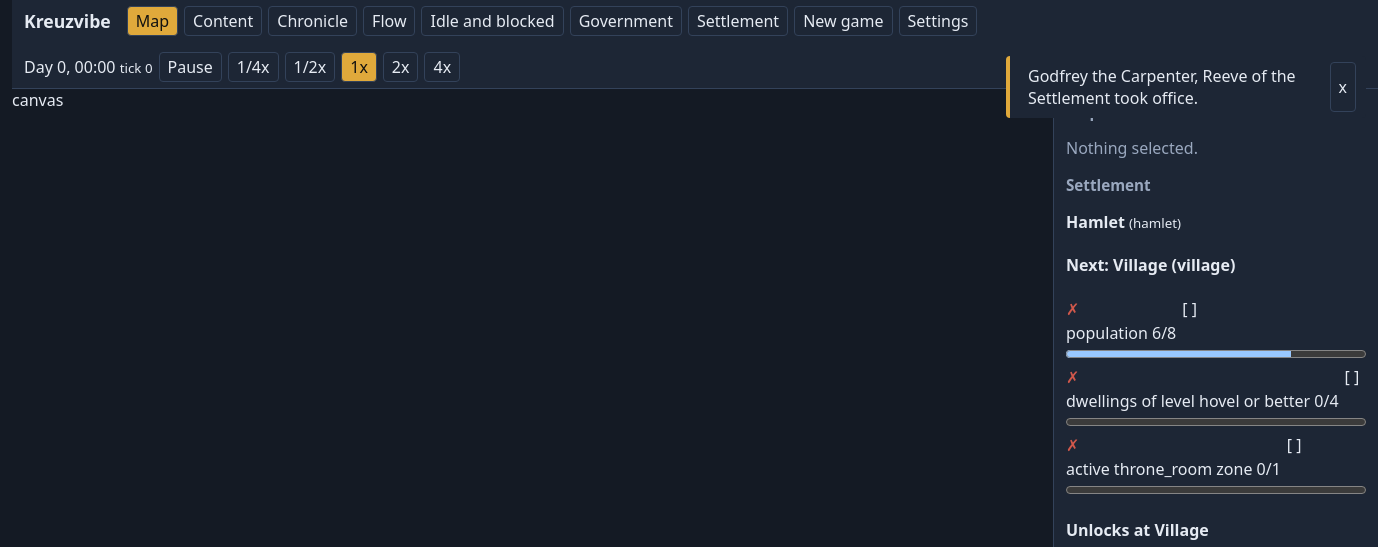
Scenario: SettlementScreen › is routed from the menu, and the other 6.5 screens replace their placeholders
Click the button "Settlement" at [738, 21], box [688,6,788,36]
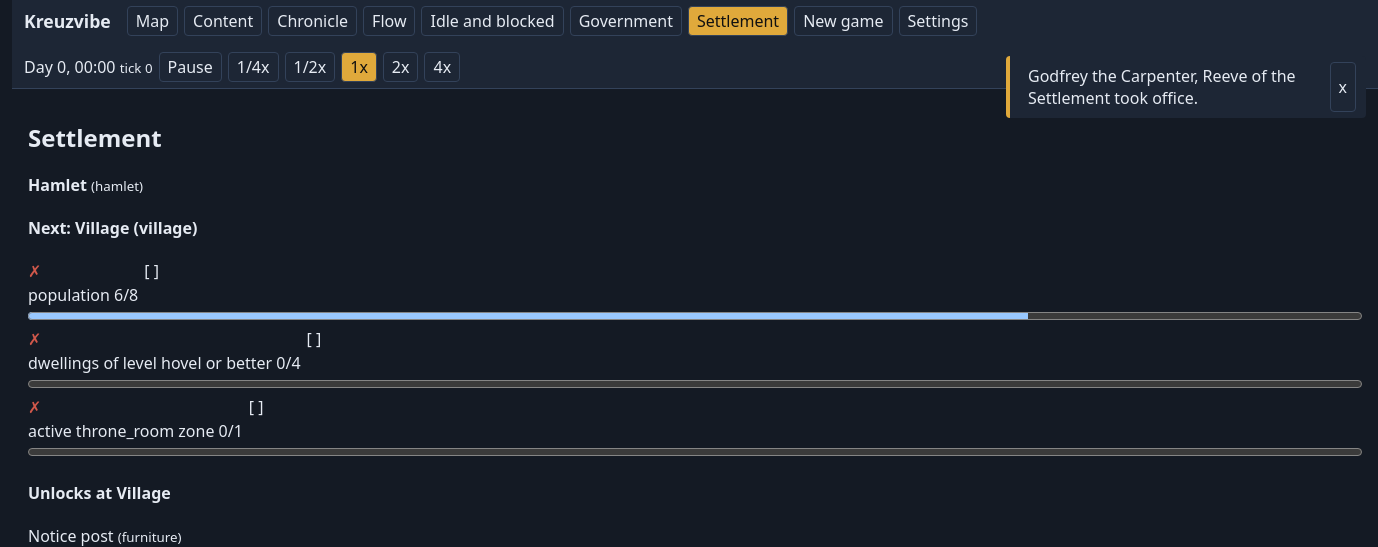
Expected: the heading "Settlement" is shown, [28,121,162,154]
Click the button "Flow" at [389, 21], box [363,6,416,36]
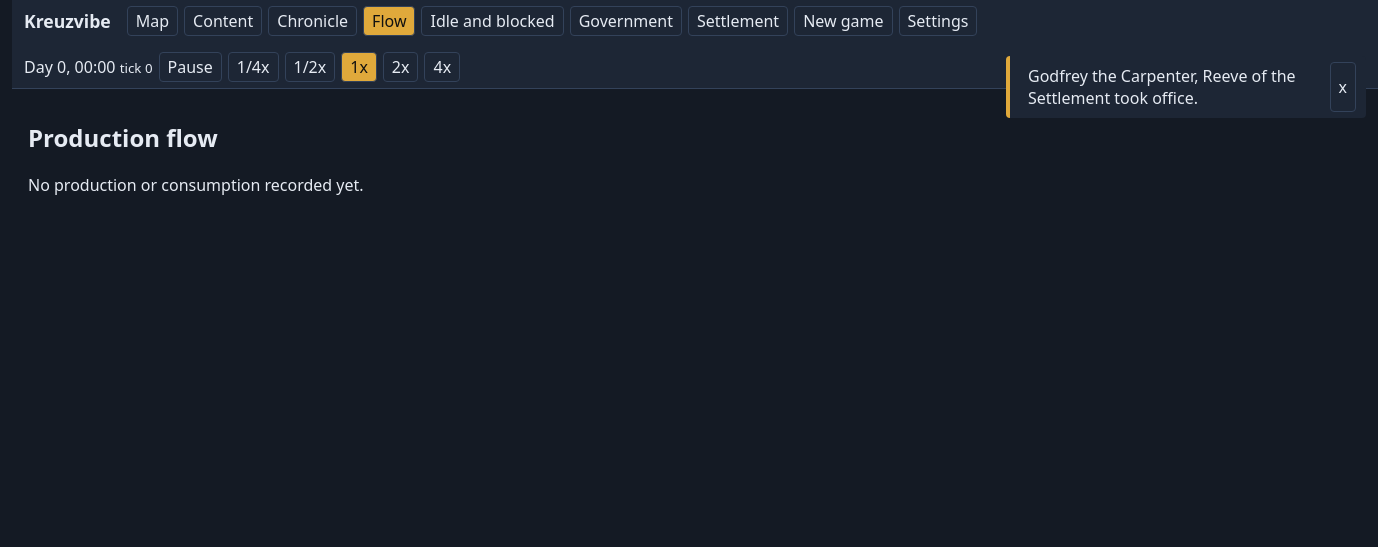
Result: the heading "Production flow" is shown at [28,121,218,154]
Click the button "Idle and blocked" at [493, 21], box [422,6,564,36]
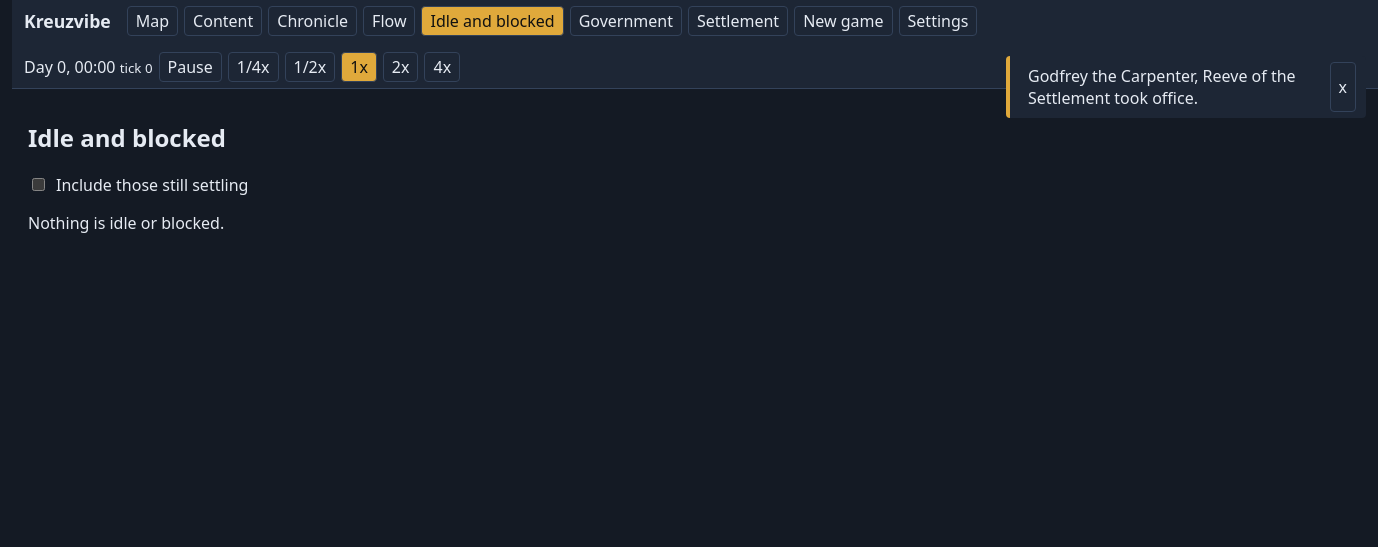
Result: the heading "Idle and blocked" is shown at [28,121,226,154]
Click the button "Chronicle" at [313, 21], box [268,6,357,36]
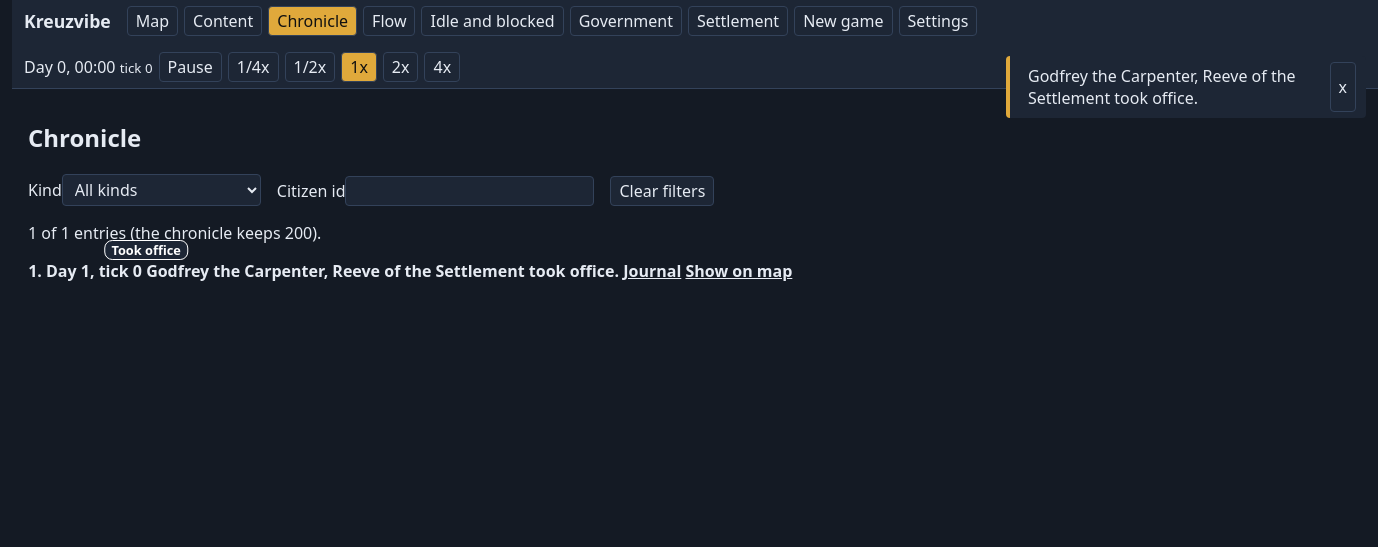
Result: the heading "Chronicle" is shown at [28,121,141,154]
